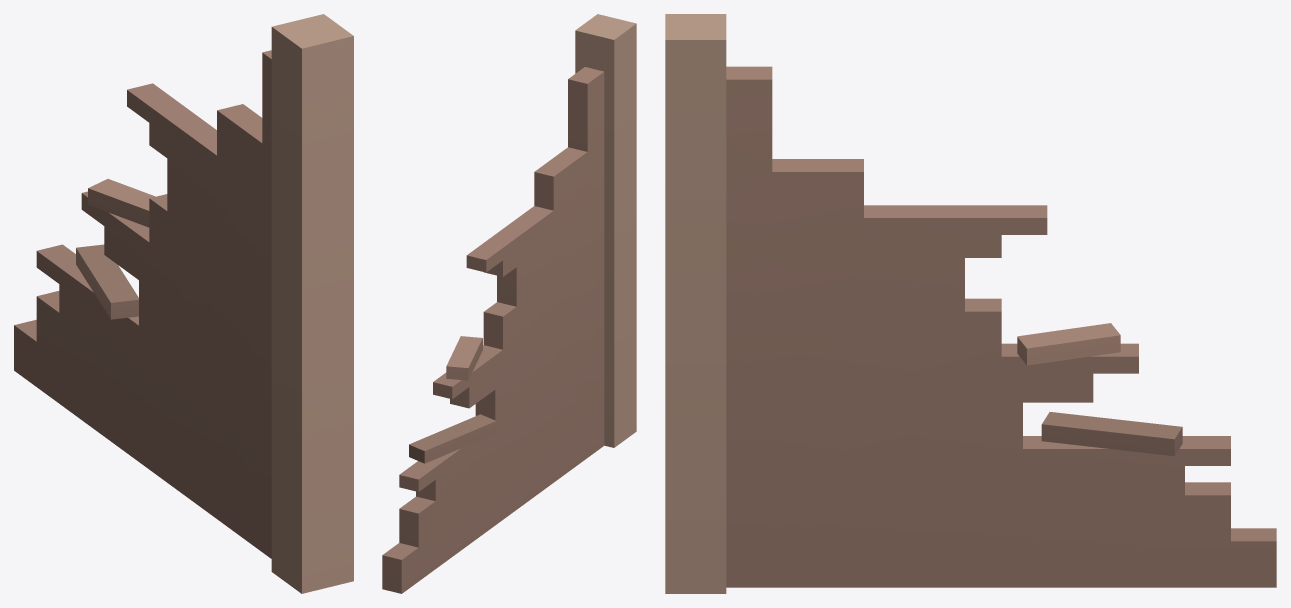
Rendered from wall-wood-broken.glb.
The picture shows the model from 3 angles, left to right: view 1: azimuth 30°, elevation 25°; view 2: azimuth 150°, elevation 25°; view 3: azimuth 270°, elevation 25°; orthographic projection. The views are drawn at different scales.
Visible parts, largest first — view 1: wall-wood-broken; view 2: wall-wood-broken; view 3: wall-wood-broken.
Part boxes in pixels (x1=…): wall-wood-broken: x1=14, y1=14, x2=353, y2=593; wall-wood-broken: x1=382, y1=14, x2=636, y2=593; wall-wood-broken: x1=665, y1=14, x2=1276, y2=593.
Bounding box in the file's own units: 0.1129 × 1 × 1.
